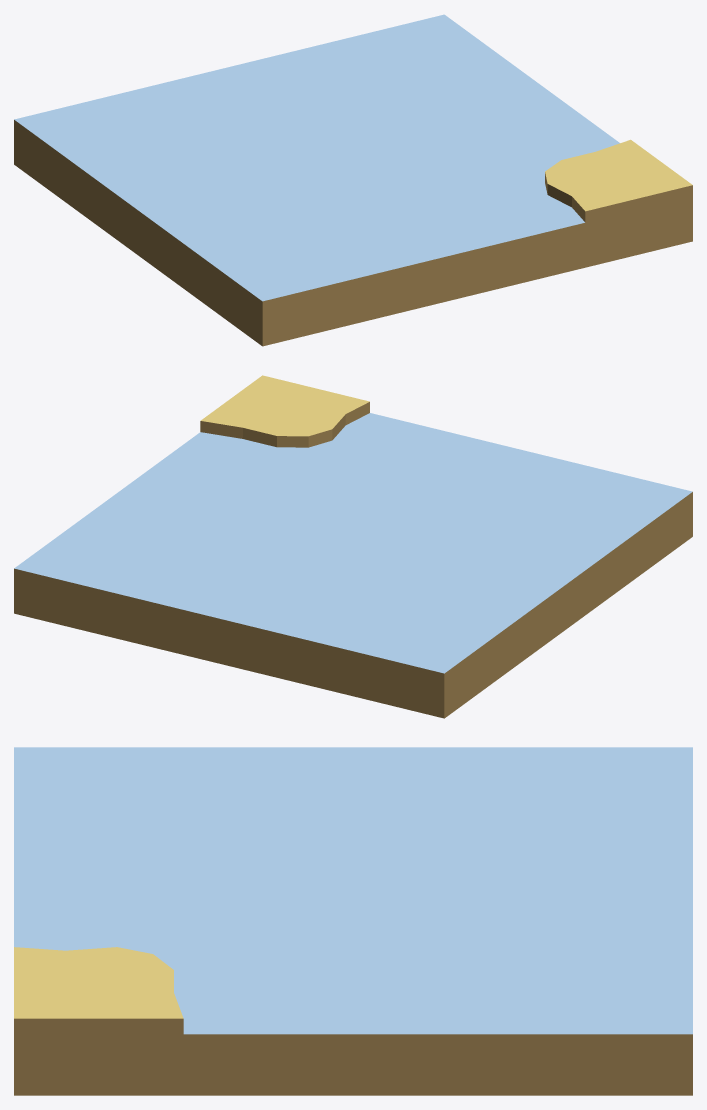
Rendered from Terrain_Tile_Sand_Water_Bank_Corner_05.fbx.
The picture shows the model from 3 angles, top to bottom: view 1: azimuth 30°, elevation 25°; view 2: azimuth 150°, elevation 25°; view 3: azimuth 270°, elevation 25°; orthographic projection. The views are drawn at different scales.
Parts seen in each view (by area): view 1: Terrain_Tile_Sand_Water_Bank_Corner_05; view 2: Terrain_Tile_Sand_Water_Bank_Corner_05; view 3: Terrain_Tile_Sand_Water_Bank_Corner_05.
Part boxes in pixels (box(x1,y1,x2,y2)): Terrain_Tile_Sand_Water_Bank_Corner_05: box(14, 14, 692, 346); Terrain_Tile_Sand_Water_Bank_Corner_05: box(14, 375, 692, 718); Terrain_Tile_Sand_Water_Bank_Corner_05: box(14, 747, 692, 1095).
Bounding box in the file's own units: 126 × 15.75 × 126.
